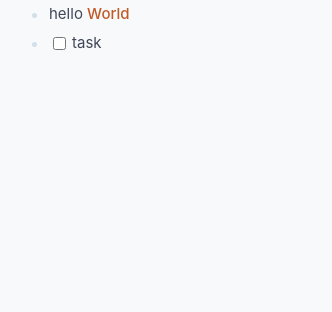
clicking a bullet opens the block menu
Click the button named "Open block menu" next to "hello".
click(34, 16)  # box [28,9,41,22]
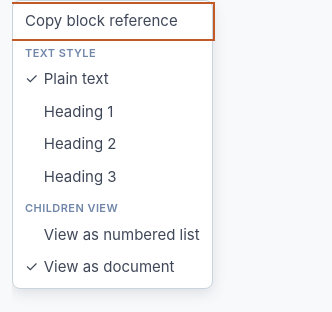
Now the menu is shown, box [12,0,213,288]
Now the menu item "Copy block reference" is shown, box [13,5,212,38]
